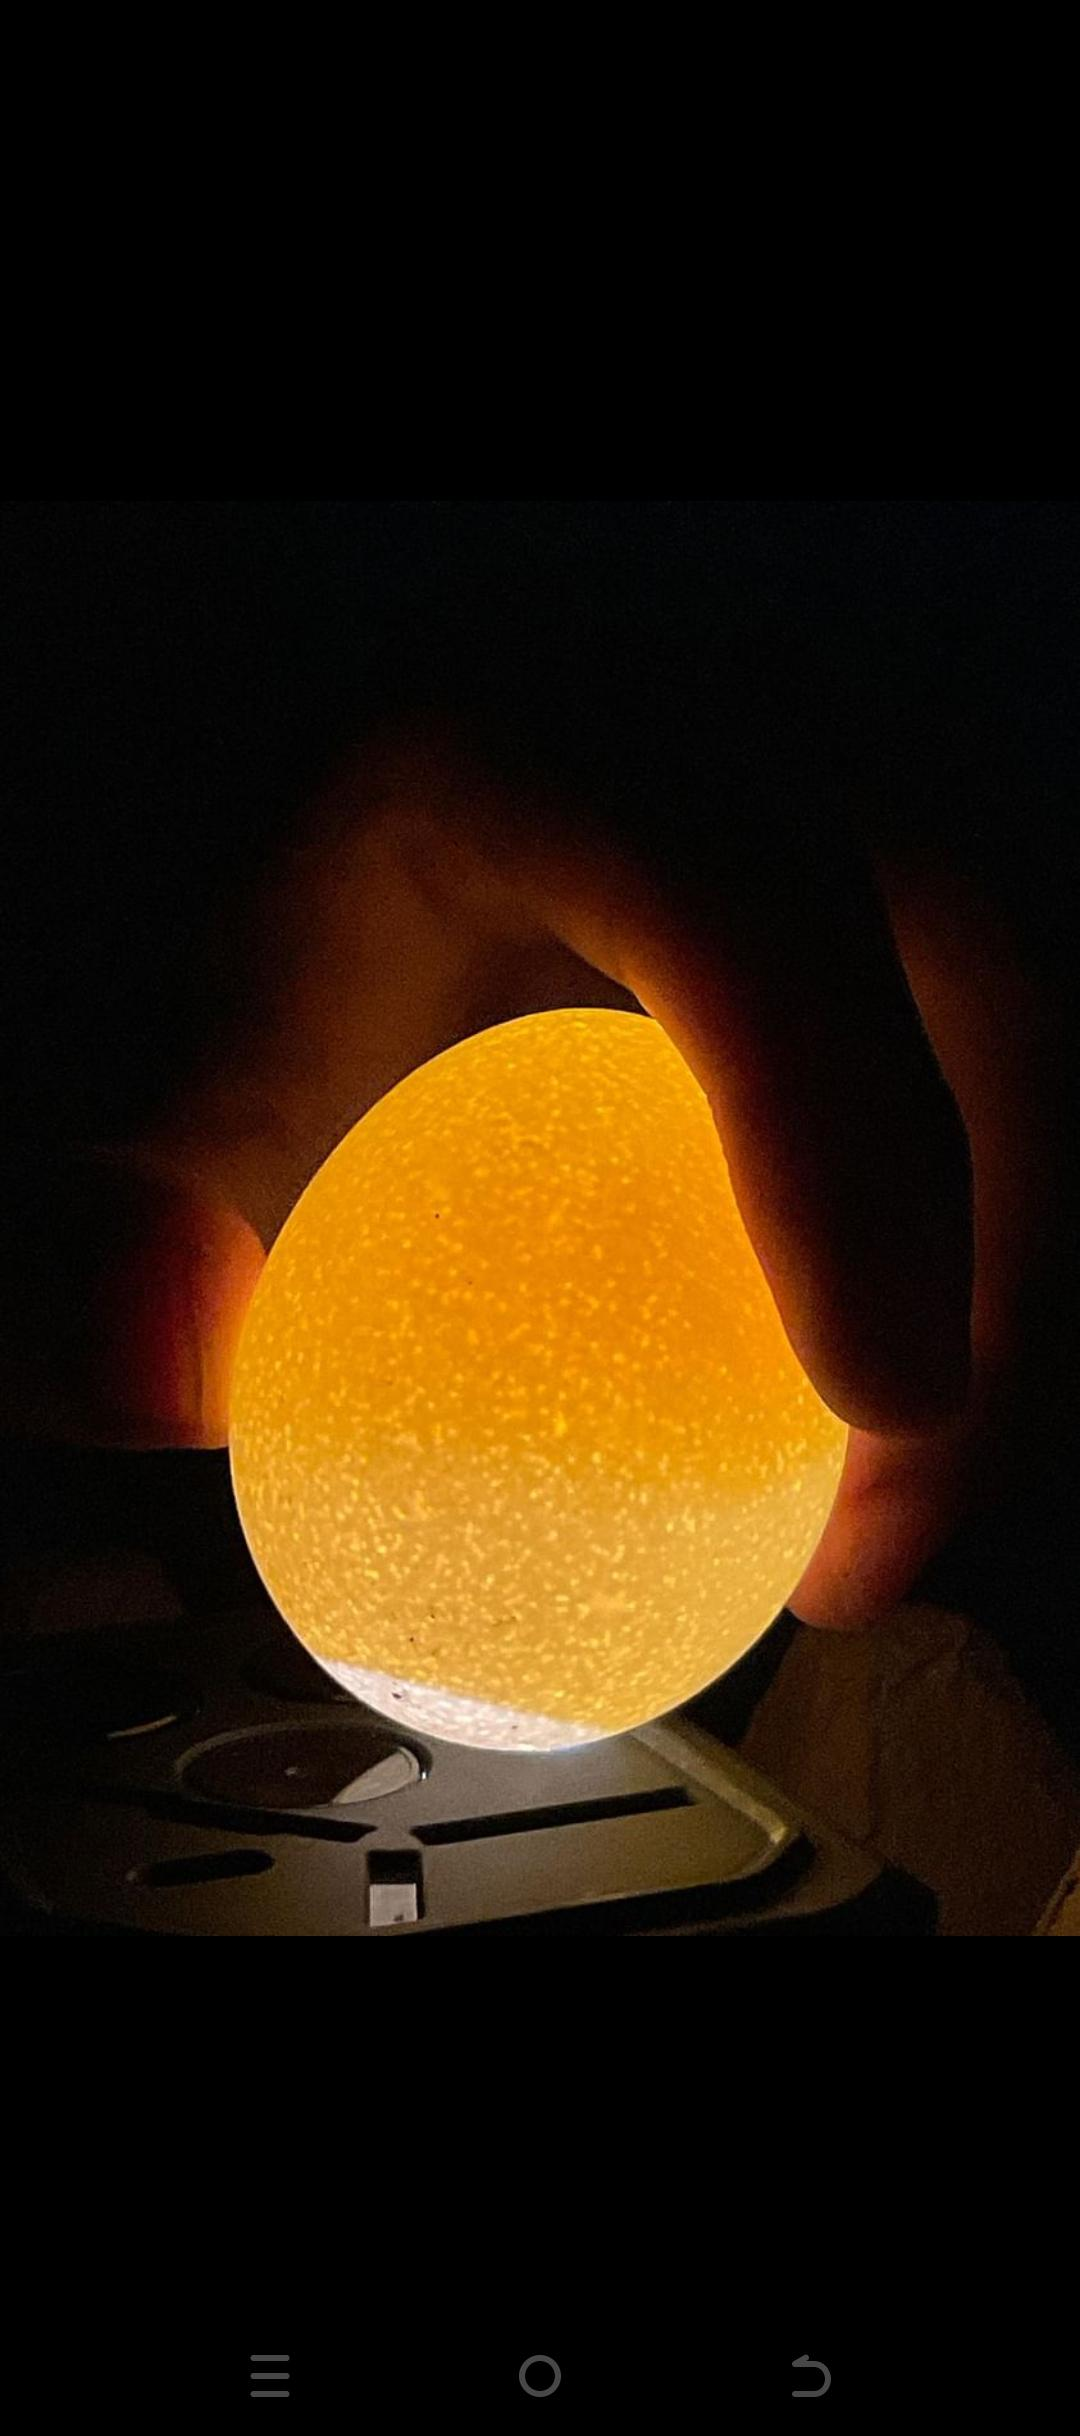AA - Premium: (210, 969, 887, 1787)
